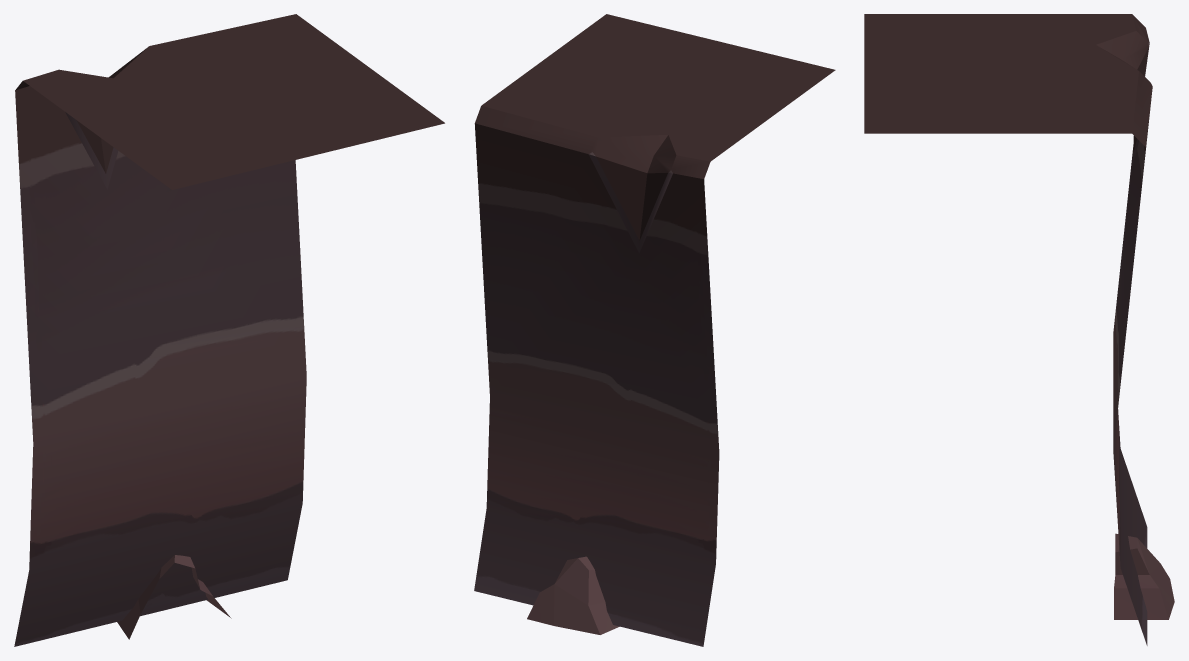
The model's file is M_Wall_03.fbx.
3 renders of one model, left to right at view 1: azimuth 30°, elevation 25°; view 2: azimuth 150°, elevation 25°; view 3: azimuth 270°, elevation 25°, orthographic. The views are drawn at different scales.
Visible parts, largest first — view 1: M_Walls.003; view 2: M_Walls.003; view 3: M_Walls.003.
Boxes of the visible parts, bbox=[...] form: M_Walls.003: bbox=[14, 14, 444, 646]; M_Walls.003: bbox=[474, 14, 835, 646]; M_Walls.003: bbox=[864, 14, 1174, 645].
Size of the model in its own units: 200 by 405 by 219.
